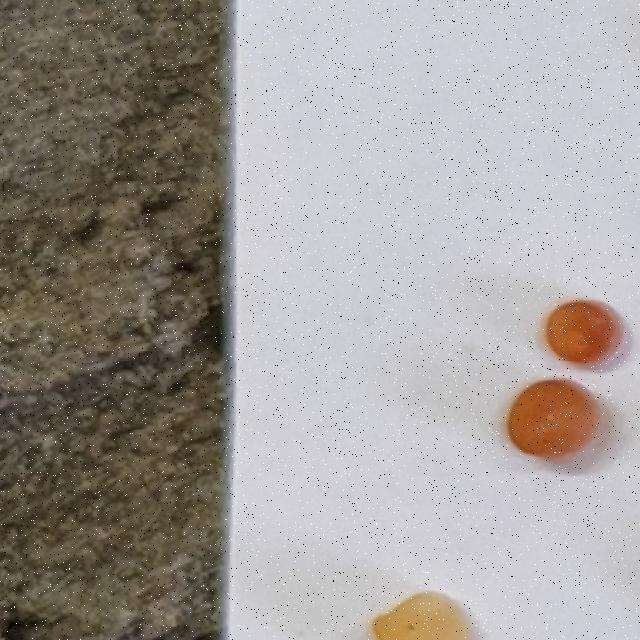beads: (509, 381, 599, 458), (549, 304, 623, 364)
